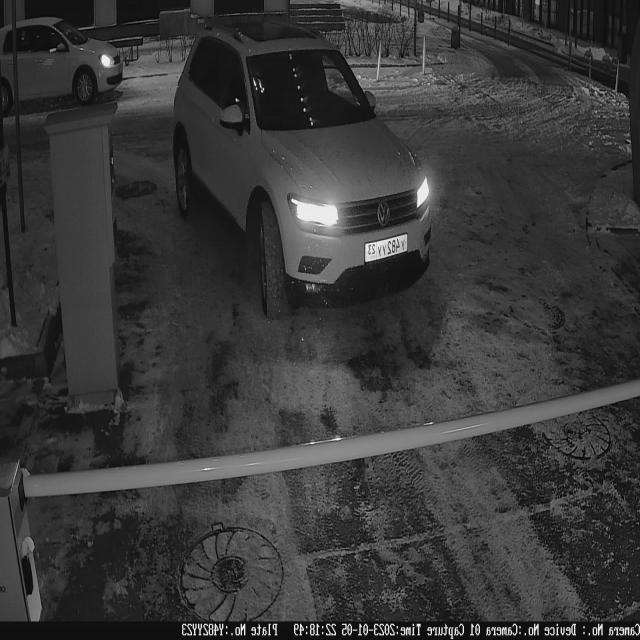car-plate-numbers: (364, 232, 413, 269)
